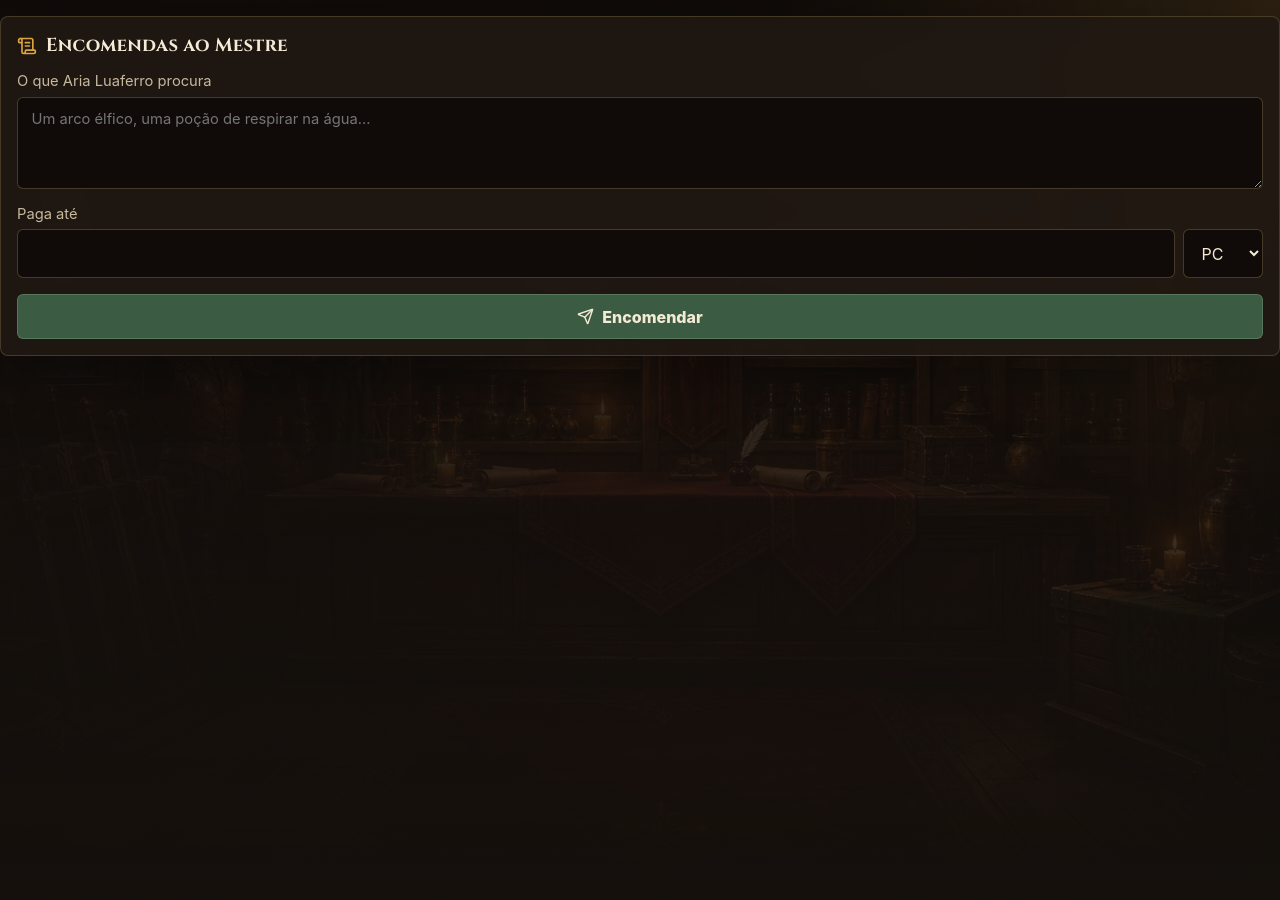
Test case: ItemRequestsPanel: corridas › uma atualização atrasada não apaga a encomenda recém-enviada
This screenshot has width=1280, height=900.
Type "Um arco élfico" into the text box labelled "O que Aria Luaferro procura" at {"x": 640, "y": 143}, box [17,97,1263,189]
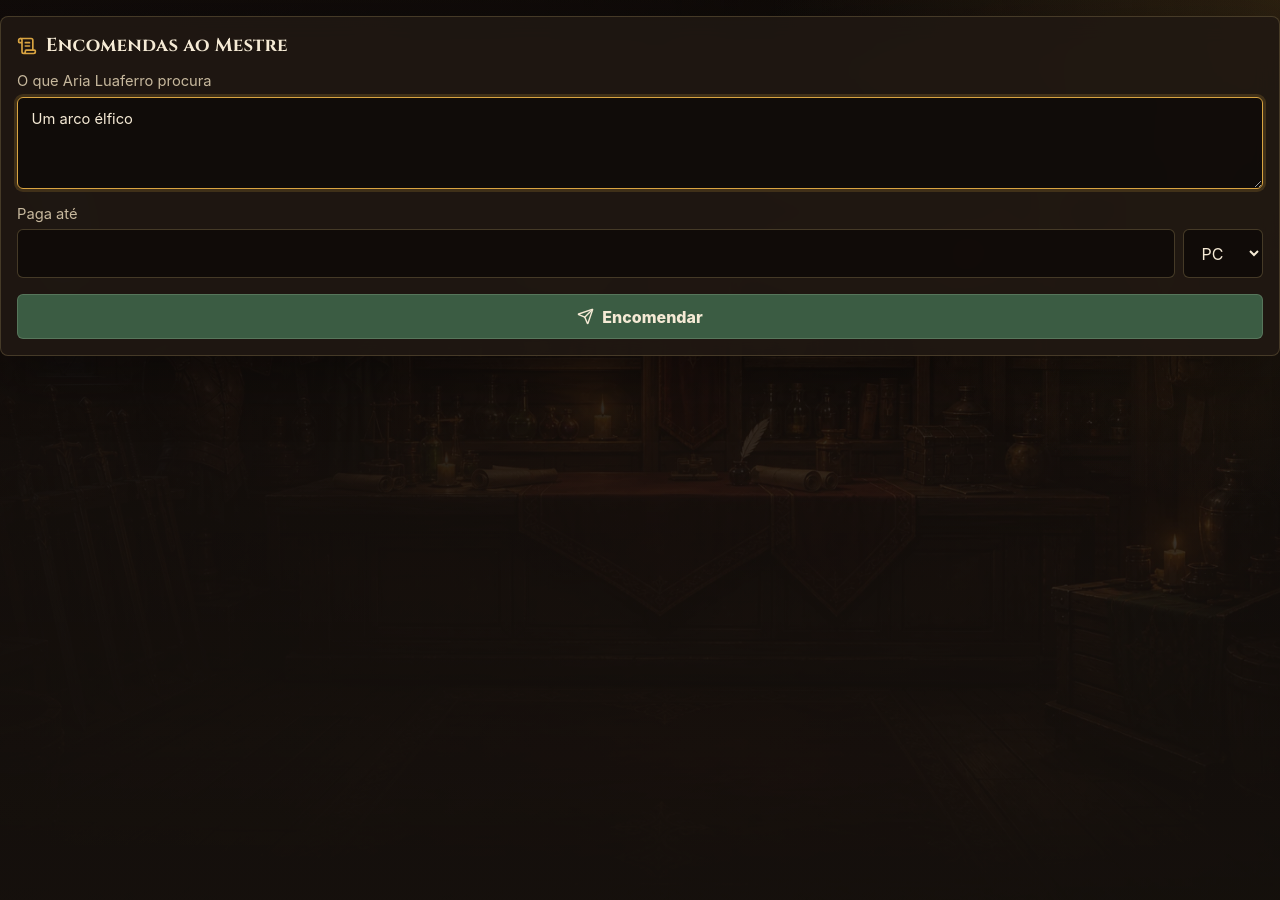
Type "300" into the number field labelled "Paga até" at {"x": 596, "y": 254}, box [17,229,1175,278]
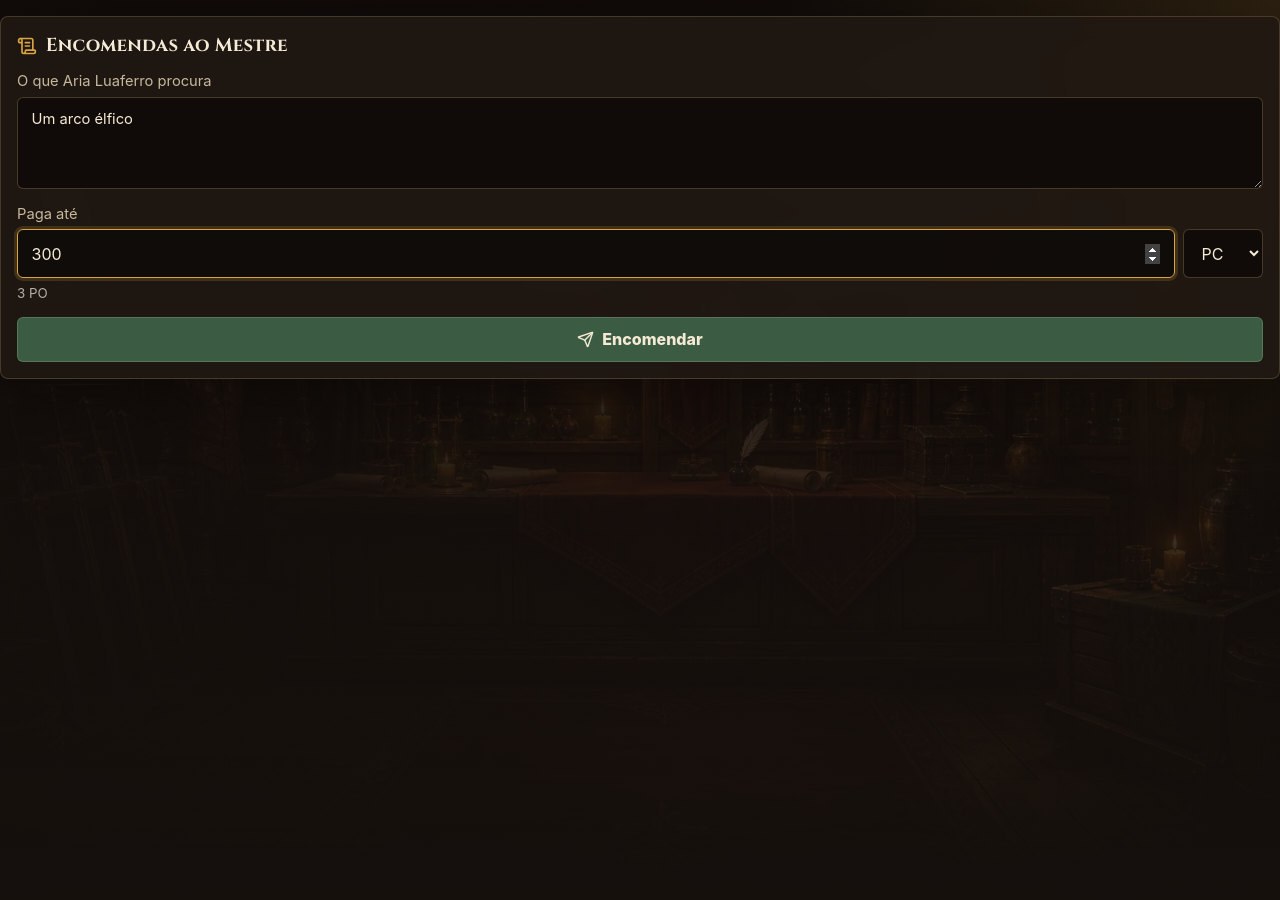
Click the button "Encomendar" at {"x": 640, "y": 339}, box [17,316,1263,362]
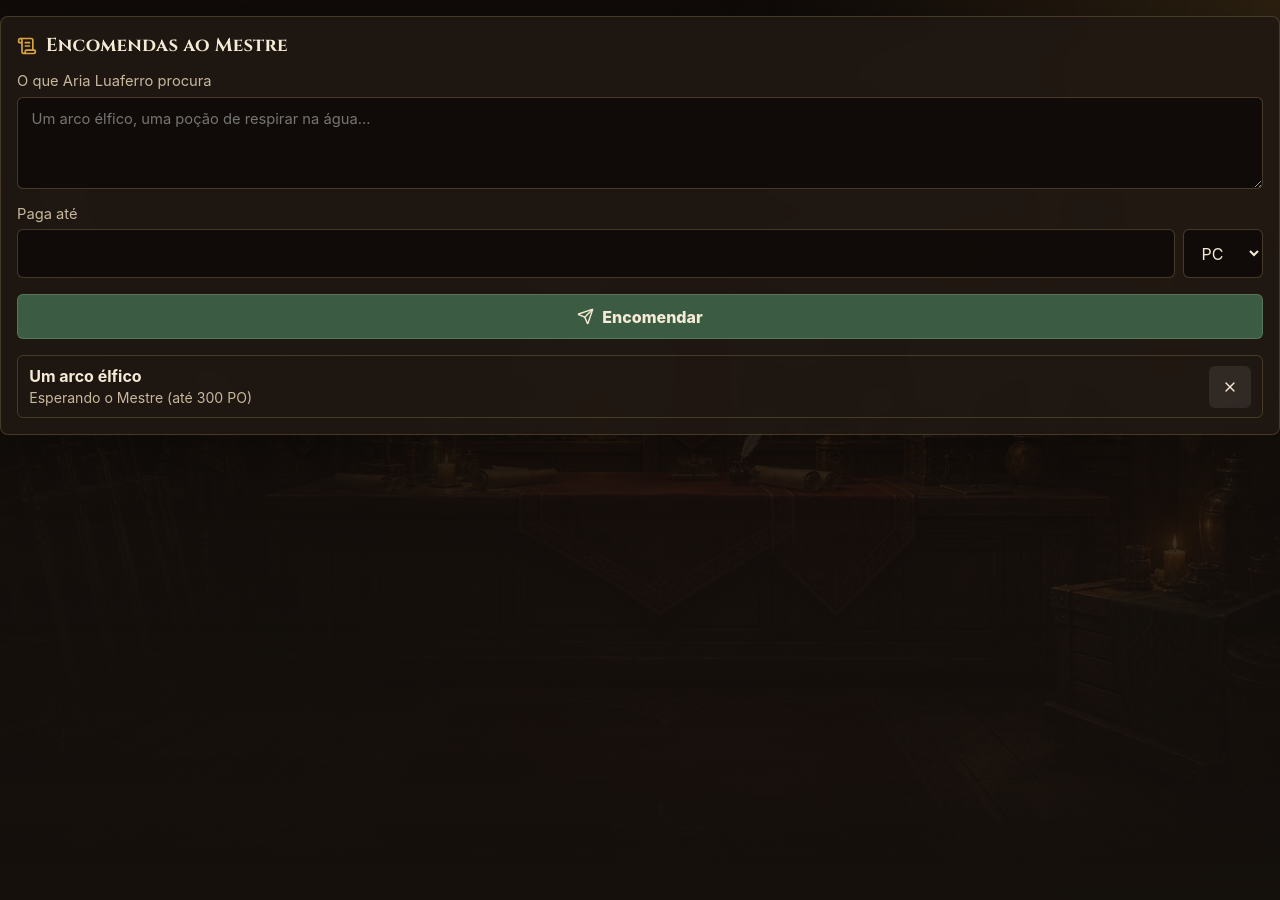
Check: the text "Um arco élfico" is shown, box [29,366,142,386]
